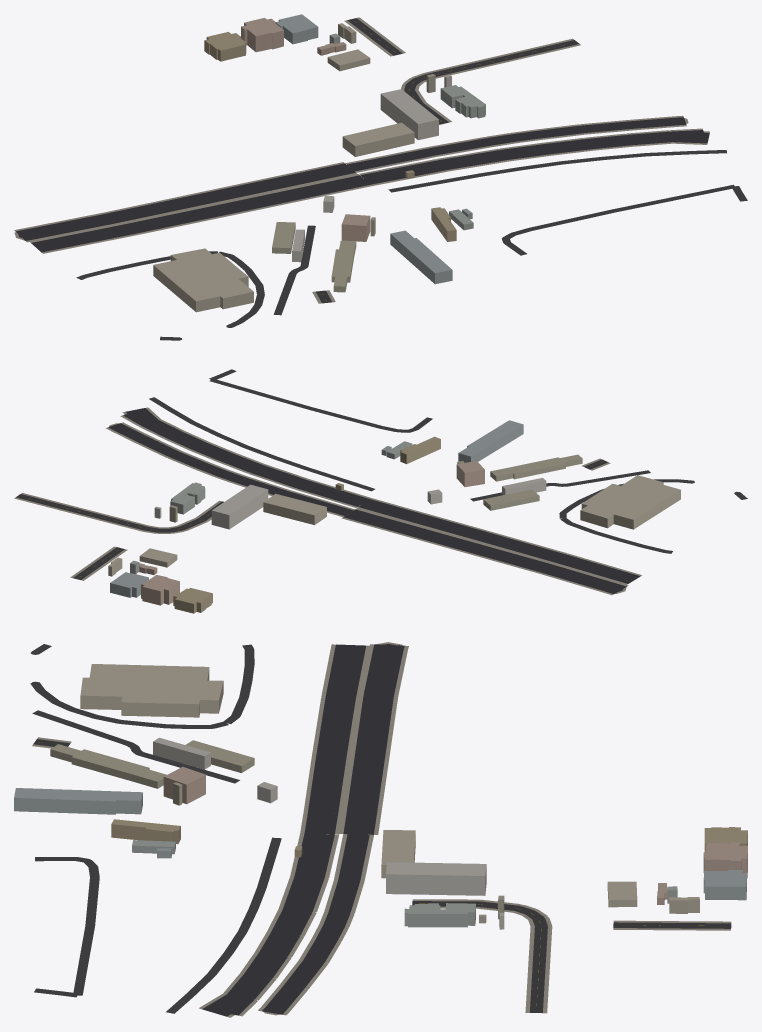
The picture shows the model from 3 angles, top to bottom: view 1: azimuth 30°, elevation 25°; view 2: azimuth 150°, elevation 25°; view 3: azimuth 270°, elevation 25°; orthographic projection. The views are drawn at different scales.
Parts seen in each view (by area): view 1: tile_2_-2; view 2: tile_2_-2; view 3: tile_2_-2.
Boxes of the visible parts, x1=… form: tile_2_-2: x1=14, y1=14, x2=747, y2=340; tile_2_-2: x1=14, y1=369, x2=747, y2=613; tile_2_-2: x1=14, y1=642, x2=747, y2=1017.
Size of the model in its own units: 408 by 10 by 337.
